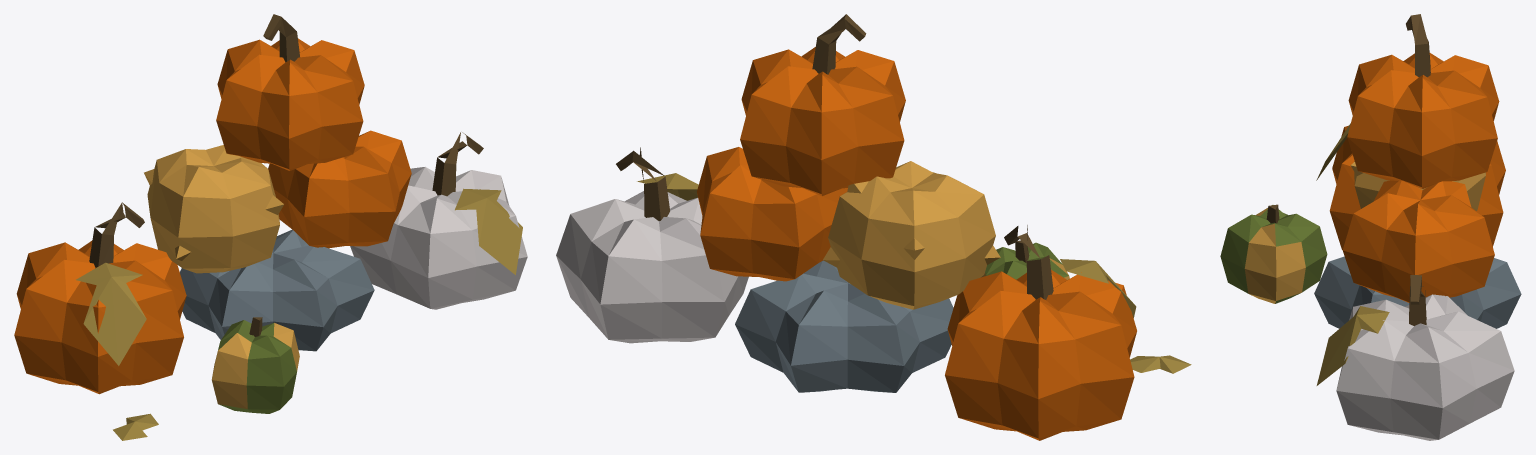
File: porch-pumpkin-display-bbc997.glb
3 views of the same model, side by side, from view 1: azimuth 30°, elevation 25°; view 2: azimuth 150°, elevation 25°; view 3: azimuth 270°, elevation 25° (orthographic). The views are drawn at different scales.
Parts seen in each view (by area): view 1: pumpkin-display; view 2: pumpkin-display; view 3: pumpkin-display.
Boxes of the visible parts, x1,y1,x2,y2 form: pumpkin-display: (14,14,527,440); pumpkin-display: (556,14,1191,440); pumpkin-display: (1220,14,1521,440).
Size of the model in its own units: 0.8951 by 0.5342 by 0.4499.
